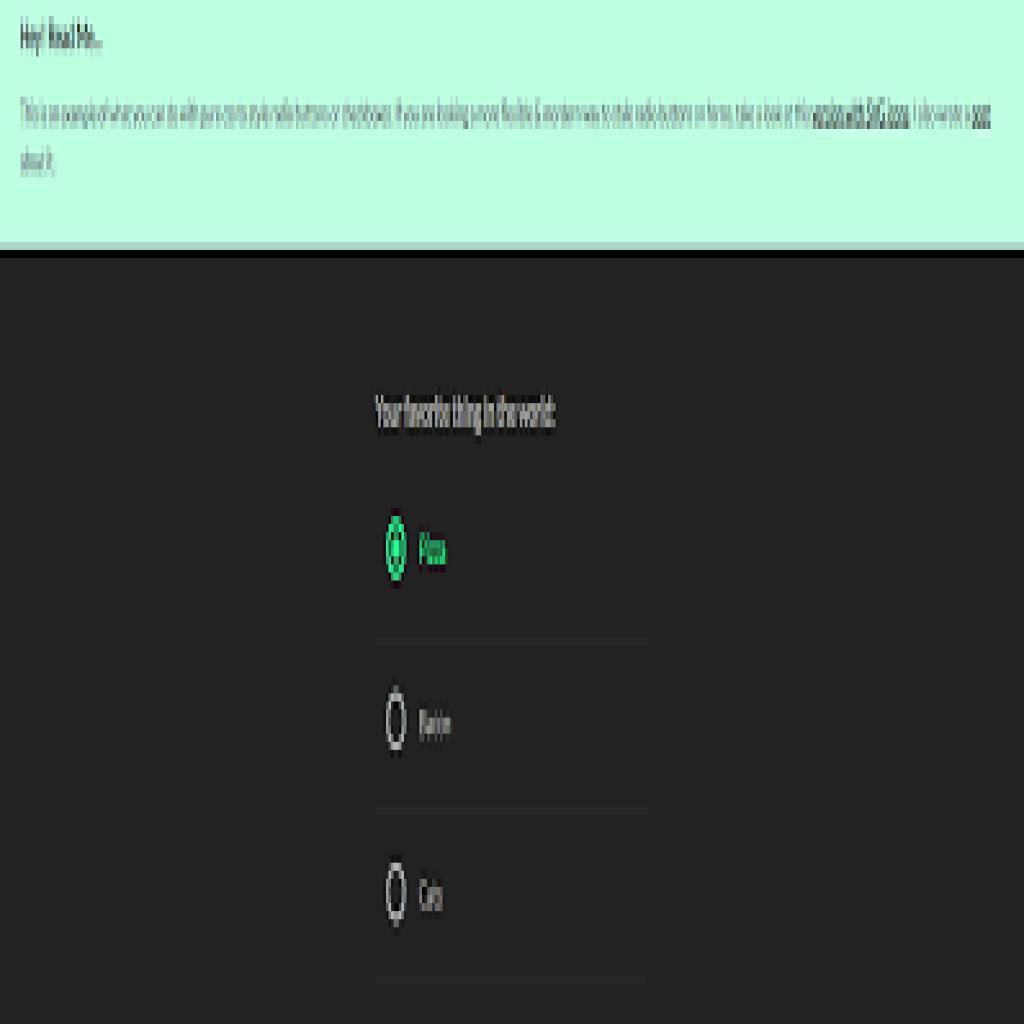label: (418, 704, 457, 745), (418, 528, 451, 574), (414, 876, 450, 918)
radio: (384, 513, 411, 591), (383, 686, 411, 754), (385, 861, 409, 925)
